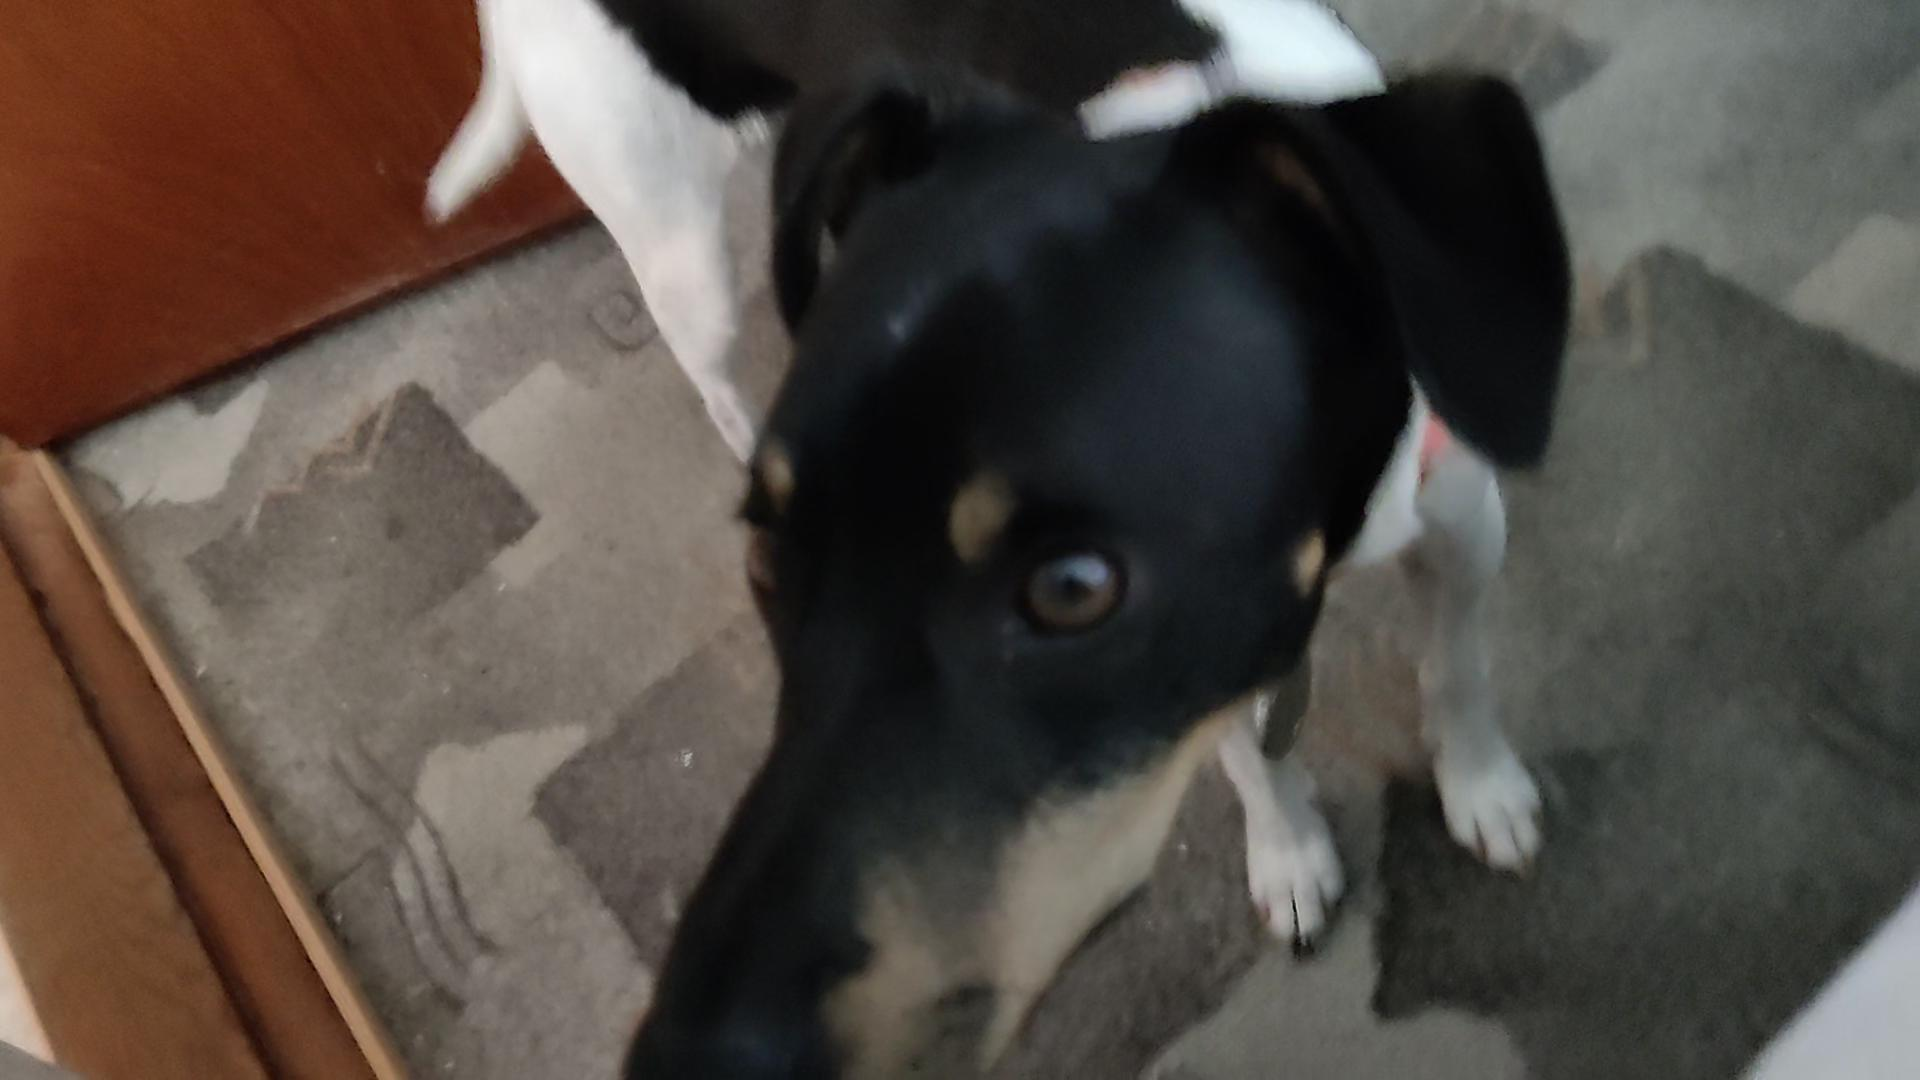Dog: (417, 0, 1592, 1079)
